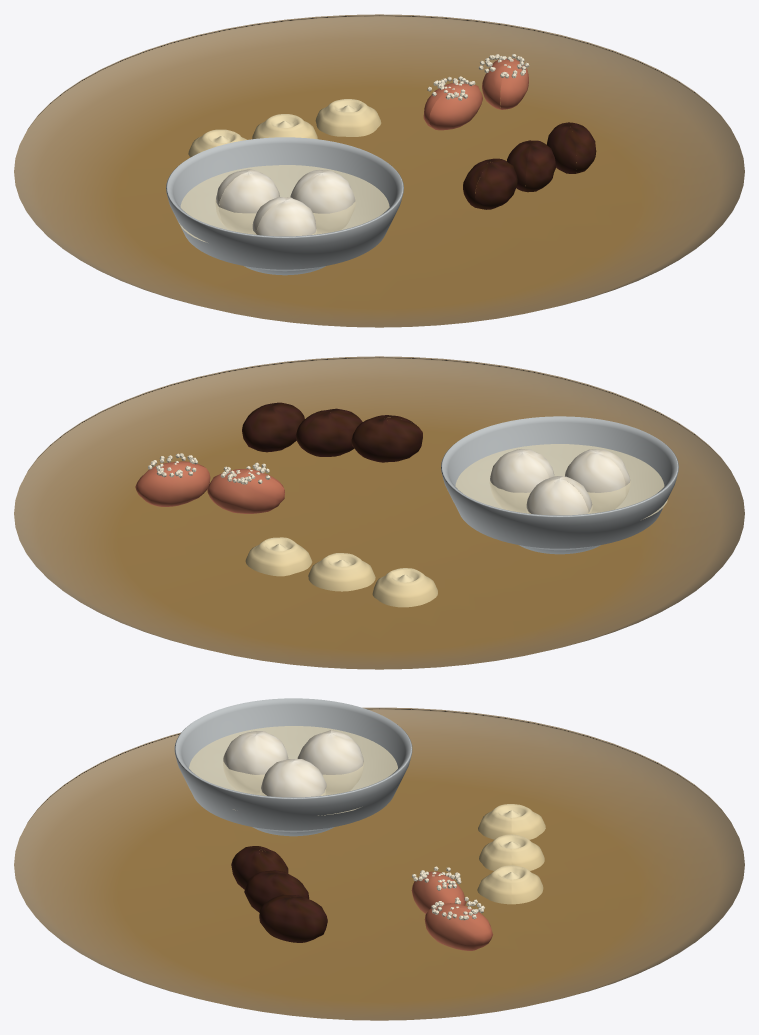
File: bangla-sweets.glb
3 views of the same model, one above another, from view 1: azimuth 30°, elevation 25°; view 2: azimuth 150°, elevation 25°; view 3: azimuth 270°, elevation 25° (orthographic).
Parts seen in each view (by area): view 1: plate, sweet, steel, syrup; view 2: plate, sweet, steel, syrup; view 3: plate, sweet, steel, syrup.
Boxes of the visible parts, x1,y1,x2,y2 form: plate: [14, 14, 744, 327]; sweet: [188, 54, 596, 236]; steel: [166, 137, 403, 275]; syrup: [179, 165, 389, 242]; plate: [14, 356, 744, 669]; sweet: [135, 402, 630, 607]; steel: [441, 416, 678, 554]; syrup: [455, 444, 667, 519]; plate: [14, 707, 744, 1020]; sweet: [223, 730, 545, 950]; steel: [174, 698, 412, 836]; syrup: [189, 726, 397, 815].
Bounding box in the file's own units: 2.21 × 0.273 × 2.21.
